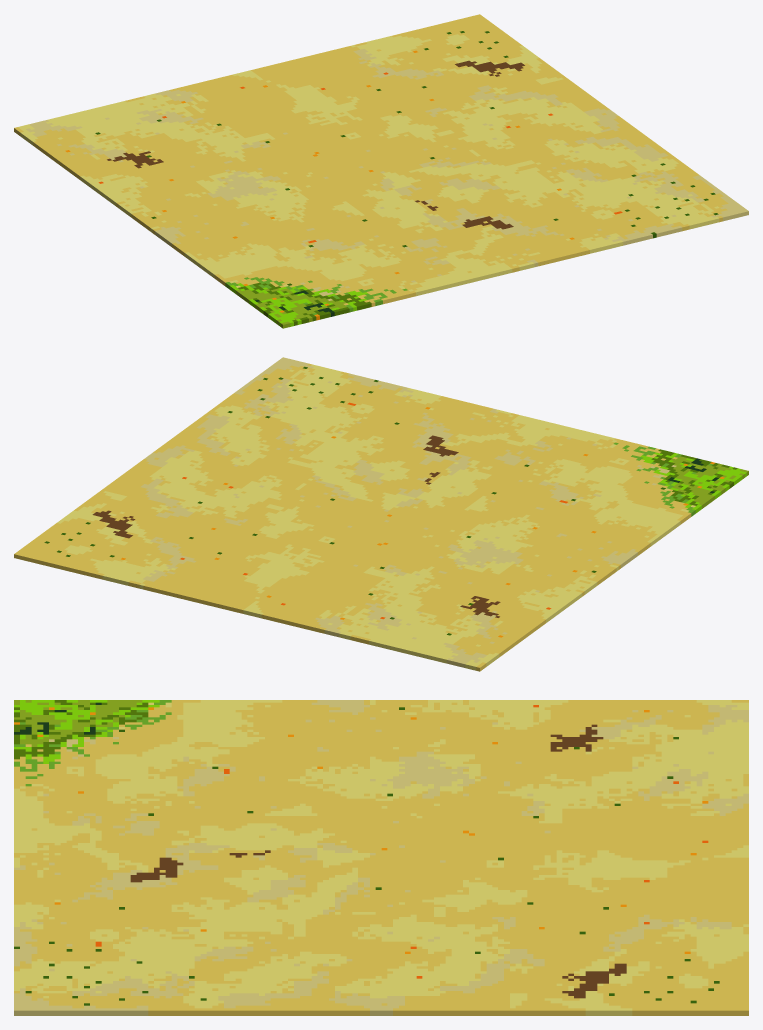
3 renders of one model, top to bottom at view 1: azimuth 30°, elevation 25°; view 2: azimuth 150°, elevation 25°; view 3: azimuth 270°, elevation 25°, orthographic. The views are drawn at different scales.
Parts seen in each view (by area): view 1: da——di——tu-2; view 2: da——di——tu-2; view 3: da——di——tu-2.
Boxes of the visible parts, x1=… form: da——di——tu-2: x1=14, y1=14, x2=748, y2=328; da——di——tu-2: x1=14, y1=357, x2=748, y2=671; da——di——tu-2: x1=14, y1=700, x2=748, y2=1015.
Bounding box in the file's own units: 126 × 1 × 126.
1 material, 1 textured.
